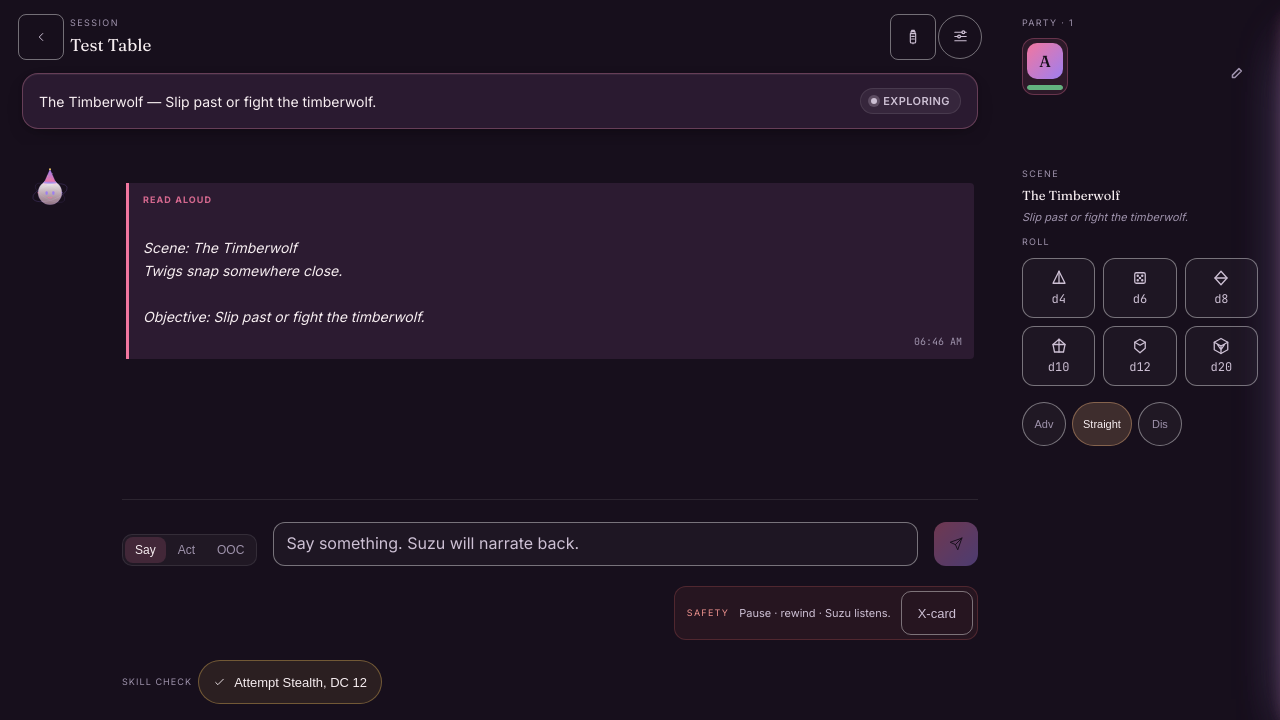
Test: F4/CHECK-DOUBLE-RENDER — flag-ON durable poll dedup › seeding one check's seq never suppresses a DIFFERENT later check_resolved event (different seq)
This screenshot has width=1280, height=720.
Expected: the text "Test Table" is shown, [70,32,151,57]
Click the button "Attempt Stealth, DC 12" at (290, 682), box [198,660,382,704]
Wait 4000 ms
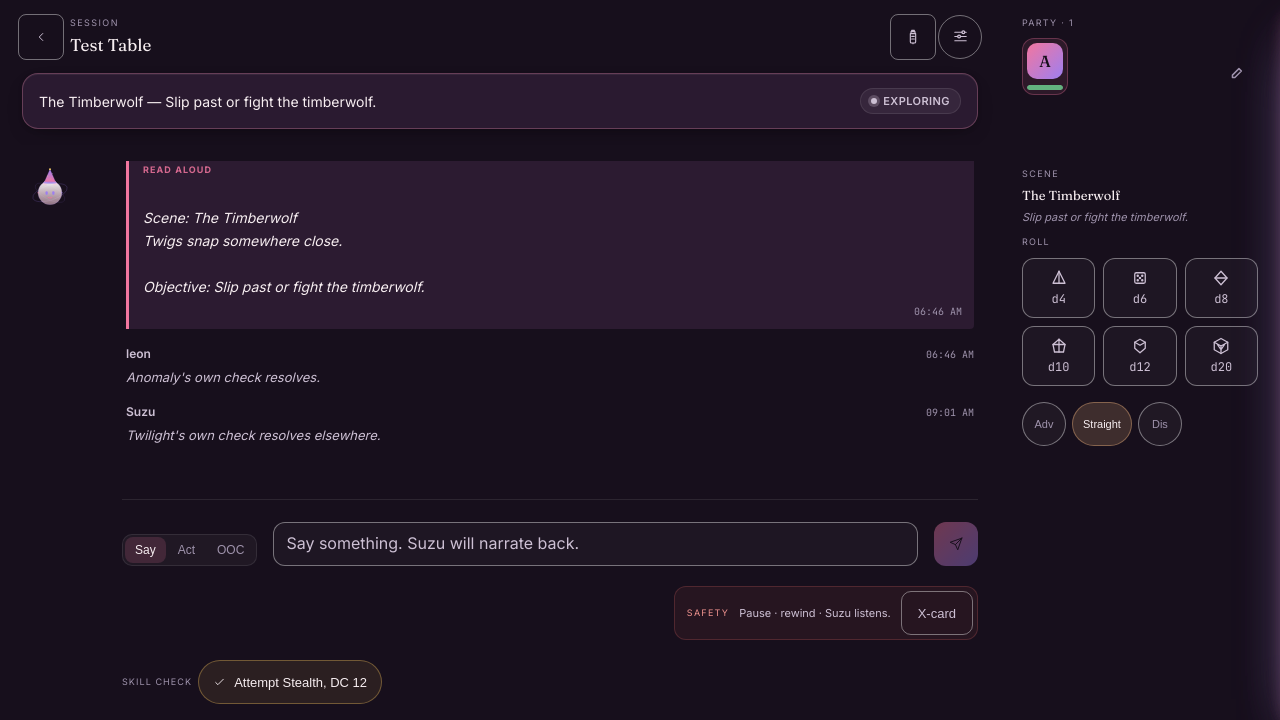
Now the text "Twilight's own check resolves elsewhere." is shown once, box [126,427,381,443]
Now the text "Anomaly's own check resolves." is shown once, box [126,369,320,385]
